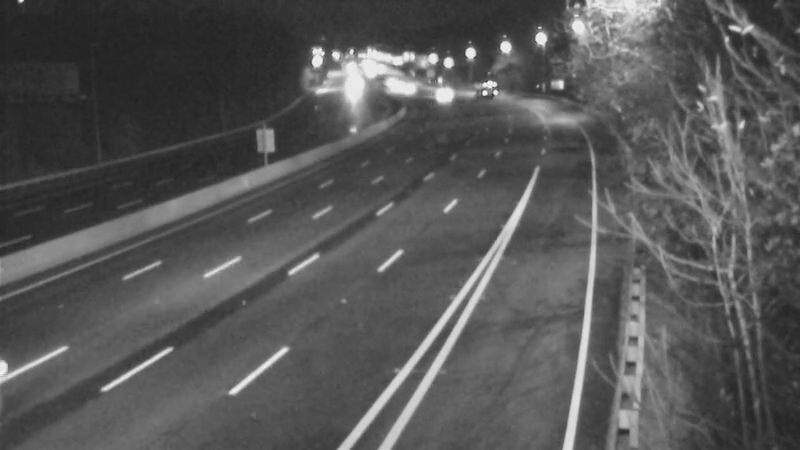vehicle: (463, 67, 513, 117), (416, 72, 466, 122), (328, 69, 378, 119)
